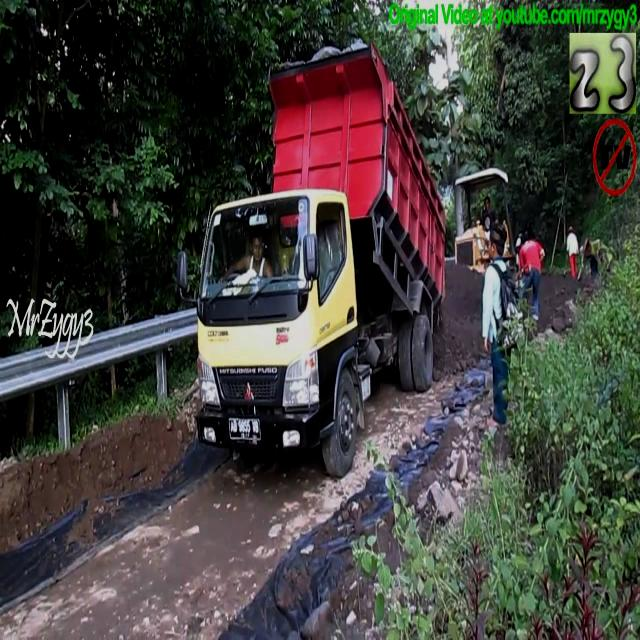truck: (184, 38, 450, 481)
